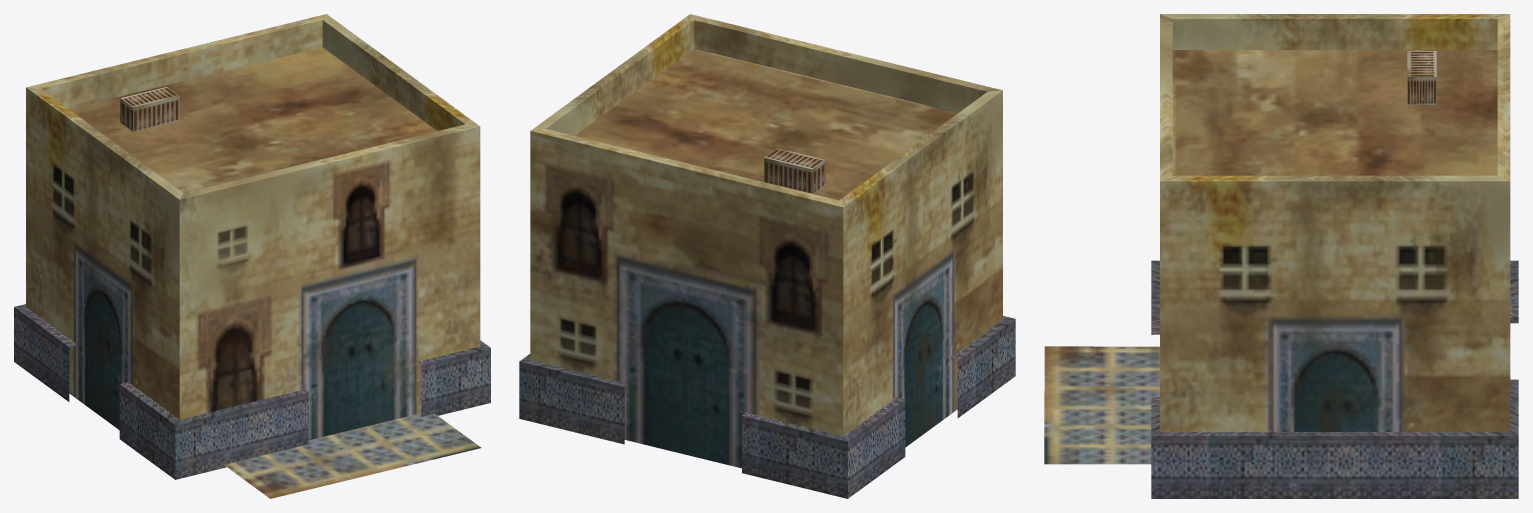
File: Civilian - Residential Building - Mogadishu House 05 - CBTHouse05.glb
3 views of the same model, side by side, from view 1: azimuth 30°, elevation 25°; view 2: azimuth 150°, elevation 25°; view 3: azimuth 270°, elevation 25° (orthographic). The views are drawn at different scales.
Parts seen in each view (by area): view 1: CBTHOUSE05; view 2: CBTHOUSE05; view 3: CBTHOUSE05.
Part boxes in pixels (box(x1,y1,x2,y2)): CBTHOUSE05: box(14, 14, 490, 498); CBTHOUSE05: box(519, 14, 1015, 498); CBTHOUSE05: box(1044, 14, 1518, 498).
Size of the model in its own units: 47.46 by 39.63 by 54.23.
Materials: 1 (1 with a texture image).
